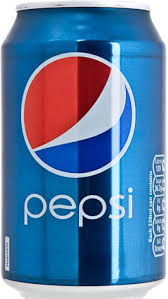pepsi: (9, 47, 153, 185)
